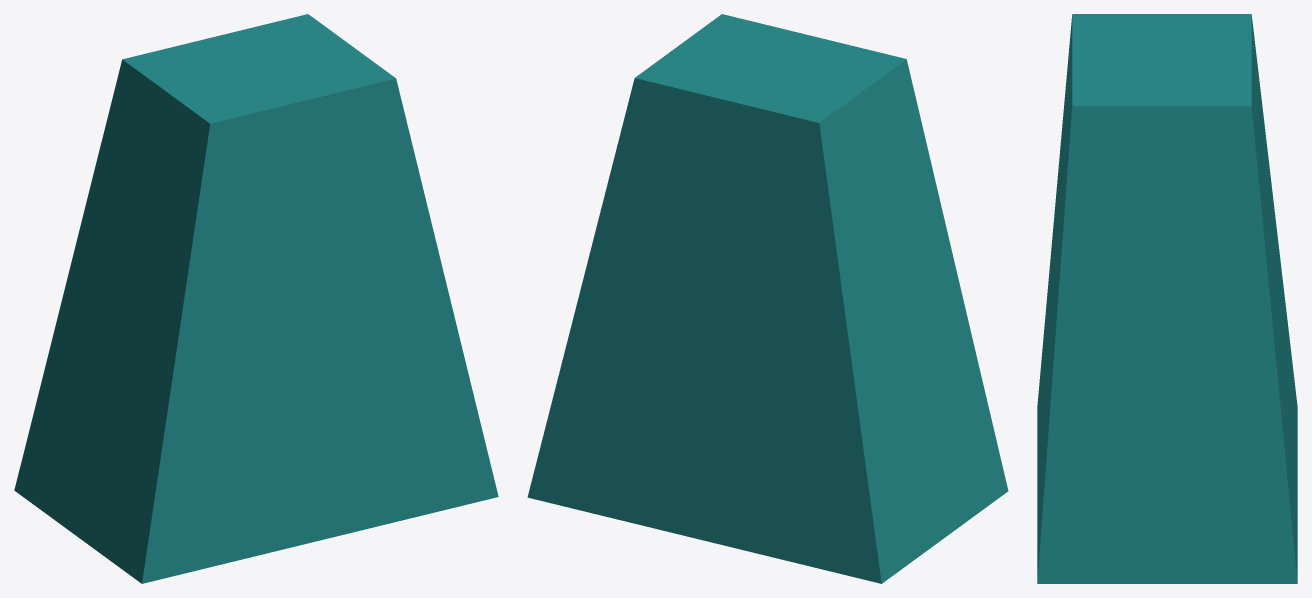
Rendered from Palanquita.fbx.
3 renders of one model, left to right at view 1: azimuth 30°, elevation 25°; view 2: azimuth 150°, elevation 25°; view 3: azimuth 270°, elevation 25°, orthographic. The views are drawn at different scales.
Parts seen in each view (by area): view 1: Palanquita; view 2: Palanquita; view 3: Palanquita.
Part boxes in pixels (bbox=[...]): Palanquita: bbox=[14, 14, 498, 583]; Palanquita: bbox=[527, 14, 1008, 583]; Palanquita: bbox=[1037, 14, 1297, 583].
Size of the model in its own units: 0.0052 by 0.00594 by 0.00322.
